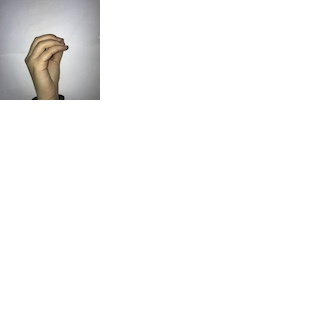rock: (21, 30, 69, 98)
